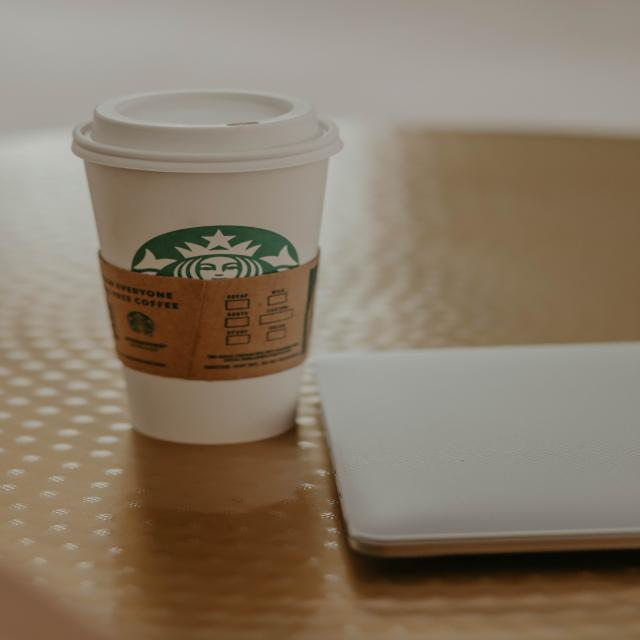cup: (62, 86, 348, 450)
